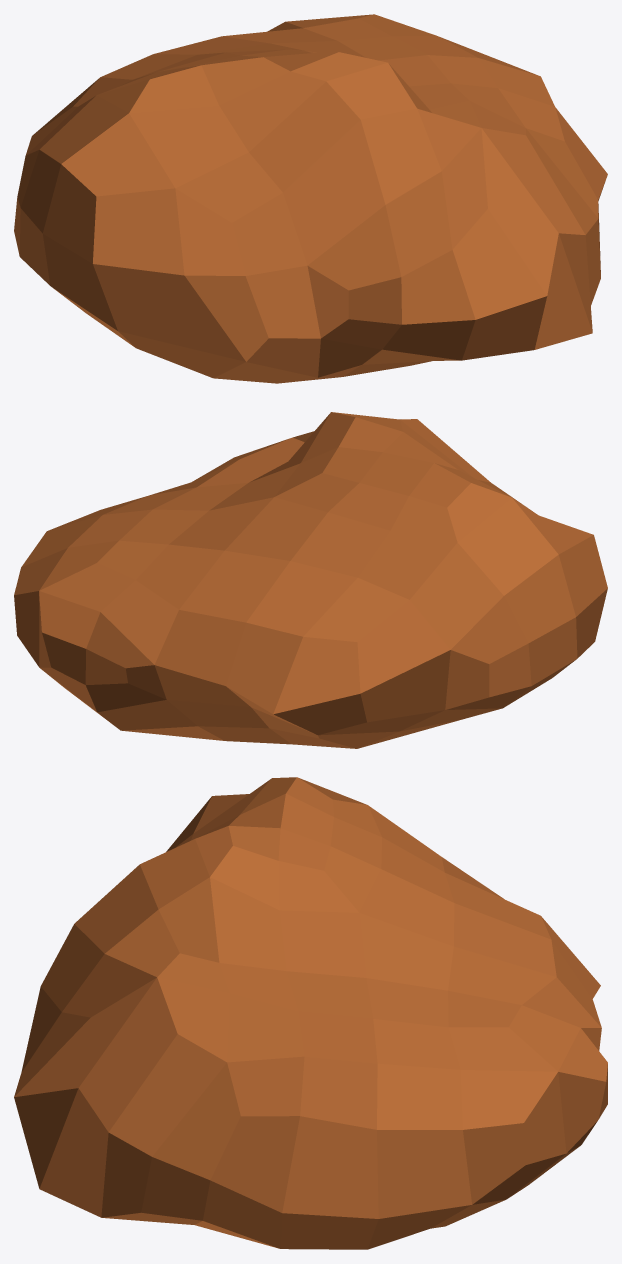
Rendered from Rock01.glb.
The picture shows the model from 3 angles, top to bottom: view 1: azimuth 30°, elevation 25°; view 2: azimuth 150°, elevation 25°; view 3: azimuth 270°, elevation 25°; orthographic projection. The views are drawn at different scales.
Parts seen in each view (by area): view 1: Cloud 6; view 2: Cloud 6; view 3: Cloud 6.
Part boxes in pixels (<box>): Cloud 6: <box>14,14,607,383</box>; Cloud 6: <box>14,412,607,748</box>; Cloud 6: <box>14,777,607,1249</box>.
Bounding box in the file's own units: 3.19 × 1.59 × 2.79.
Materials: 1 (1 with a texture image).
